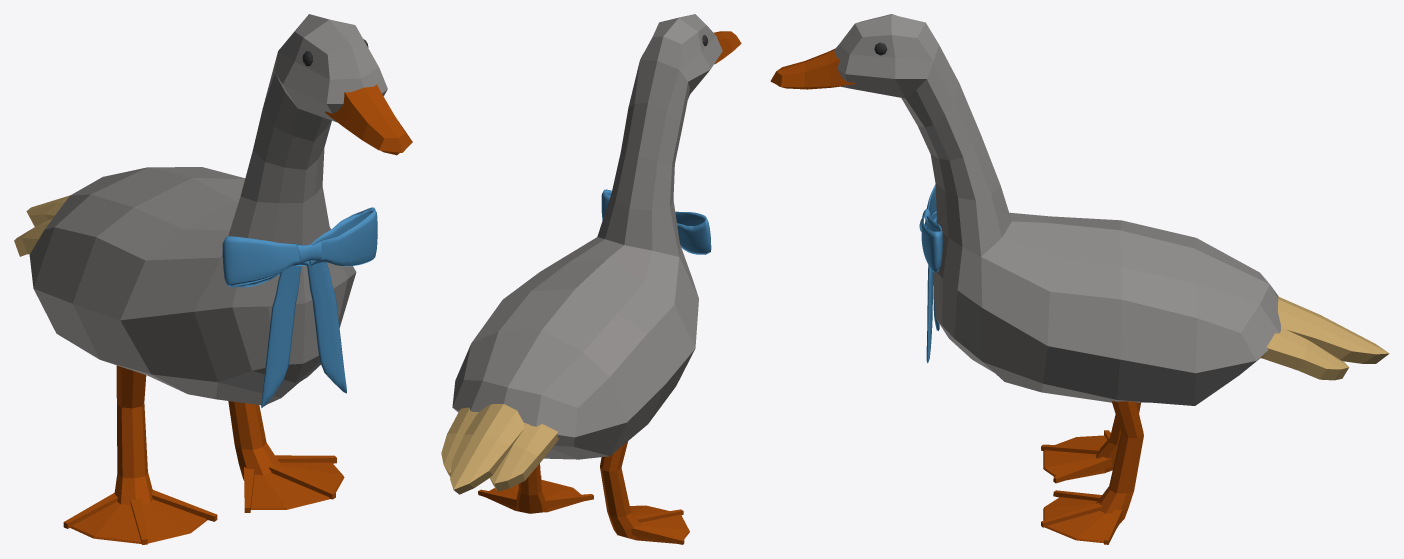
File: duck-bow-v3.fbx
3 views of the same model, side by side, from view 1: azimuth 30°, elevation 25°; view 2: azimuth 150°, elevation 25°; view 3: azimuth 270°, elevation 25° (orthographic). The views are drawn at different scales.
Visible parts, largest first — view 1: duck.019; view 2: duck.019; view 3: duck.019.
Boxes of the visible parts, left/top/right/bottom form: duck.019: left=14, top=14, right=412, bottom=544; duck.019: left=441, top=14, right=741, bottom=544; duck.019: left=770, top=14, right=1389, bottom=544.
Size of the model in its own units: 177 by 357 by 420.
